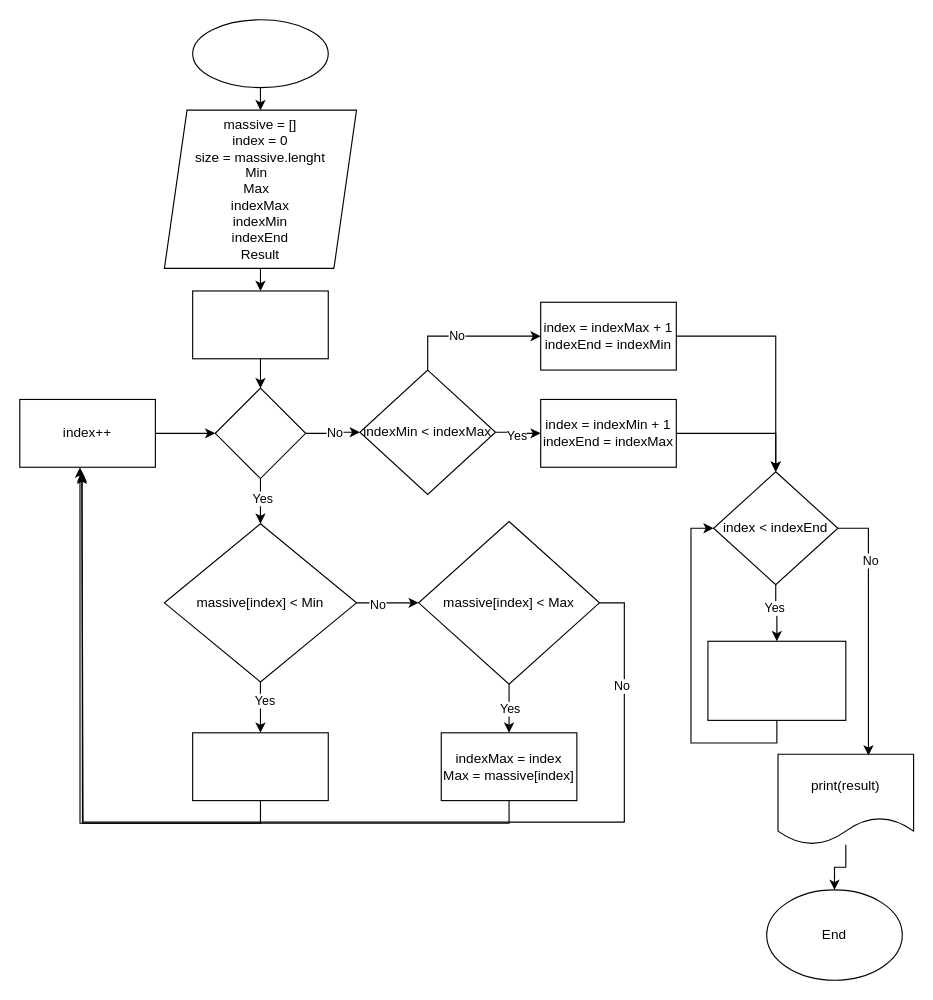
The diagram is 933 pixels wide and 1000 high, and some of its shapes have lost their labels. Each missing label, with the centre of its shape:
"index < size" goes at (260,433).
"indexMin = index Min = massive[index]" goes at (260,766).
"Min = massive[index] Max = massive[index] indexMax = index indexMin = index" goes at (260,324).
"result =result + massive[index] index++" goes at (776,680).
"Start" goes at (260,53).
